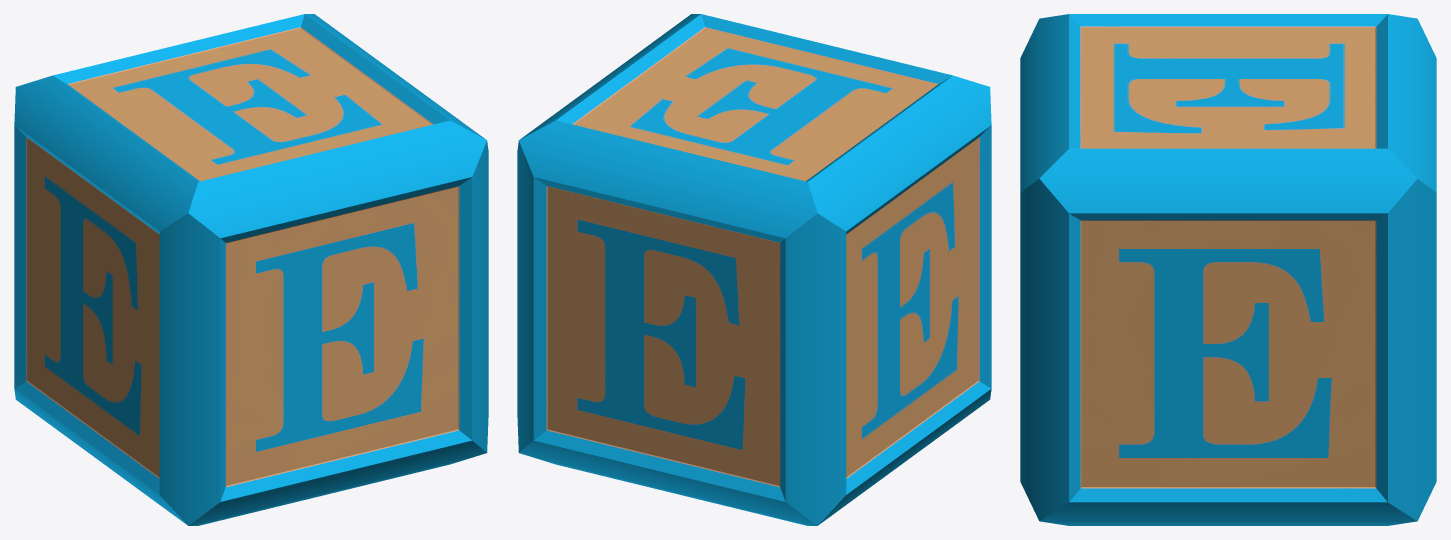
The picture shows the model from 3 angles, left to right: view 1: azimuth 30°, elevation 25°; view 2: azimuth 150°, elevation 25°; view 3: azimuth 270°, elevation 25°; orthographic projection. The views are drawn at different scales.
Parts seen in each view (by area): view 1: pCube1; view 2: pCube1; view 3: pCube1.
Boxes of the visible parts, x1=… form: pCube1: x1=14, y1=14, x2=488, y2=525; pCube1: x1=517, y1=14, x2=991, y2=525; pCube1: x1=1020, y1=14, x2=1436, y2=525.
Bounding box in the file's own units: 0.4114 × 0.4114 × 0.4114.
1 material, 1 textured.
